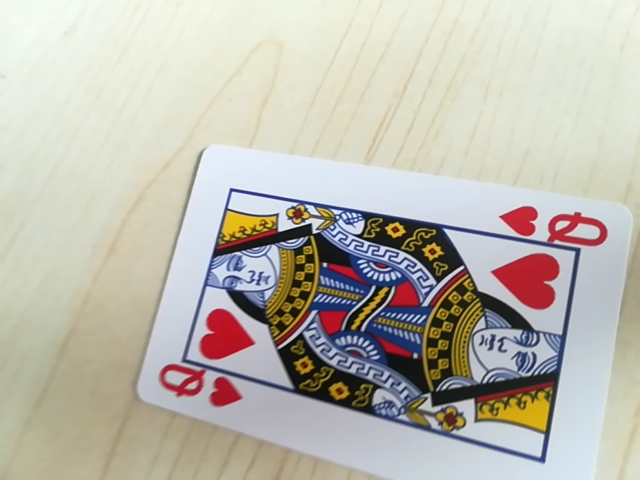hx q: (498, 204, 613, 249), (155, 362, 247, 408)
